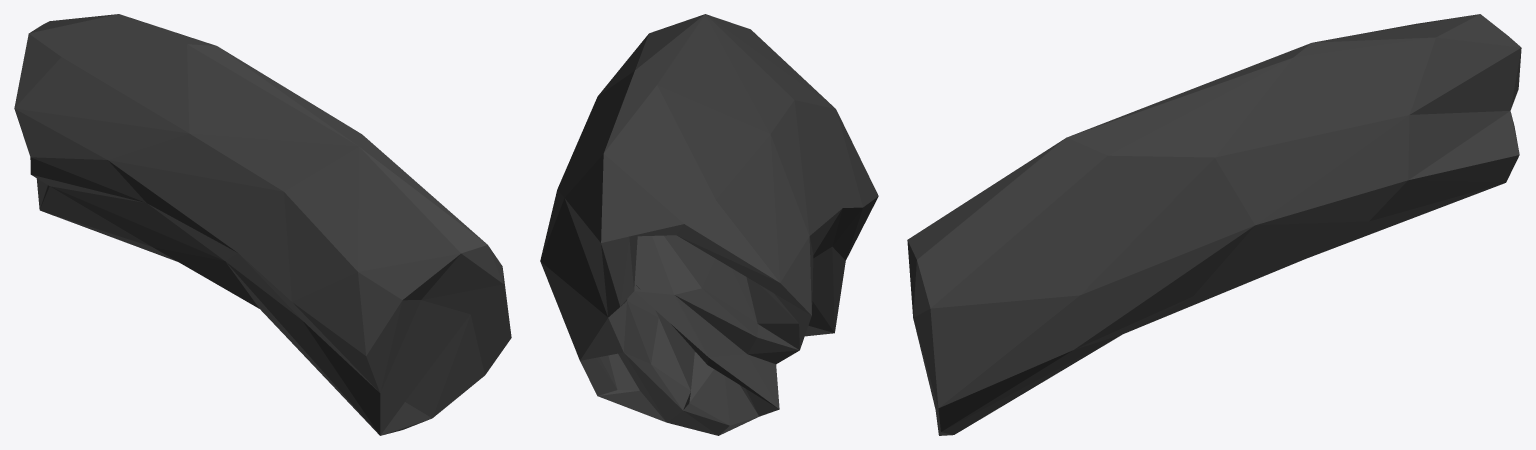
3 renders of one model, left to right at view 1: azimuth 30°, elevation 25°; view 2: azimuth 150°, elevation 25°; view 3: azimuth 270°, elevation 25°, orthographic. The views are drawn at different scales.
Parts seen in each view (by area): view 1: world; view 2: world; view 3: world.
Part boxes in pixels (bbox=[...]): world: bbox=[14, 14, 511, 435]; world: bbox=[540, 14, 878, 435]; world: bbox=[907, 14, 1521, 435].
Size of the model in its own units: 0.2595 by 0.2434 by 0.384.
1 material, 1 textured.
